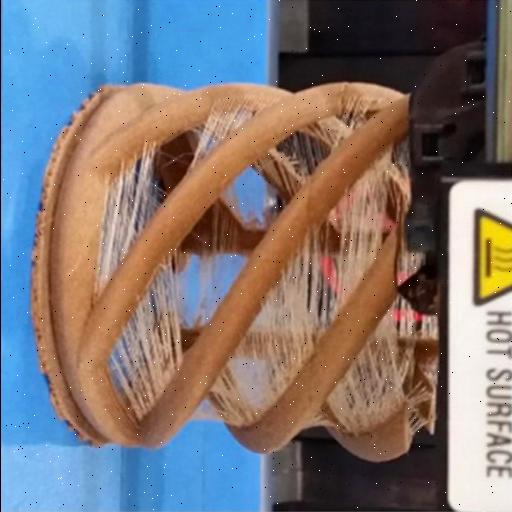stringing: (195, 226, 327, 428), (110, 260, 186, 426), (327, 144, 397, 318), (95, 141, 167, 297), (323, 319, 413, 435), (181, 93, 275, 182), (320, 84, 382, 154)
